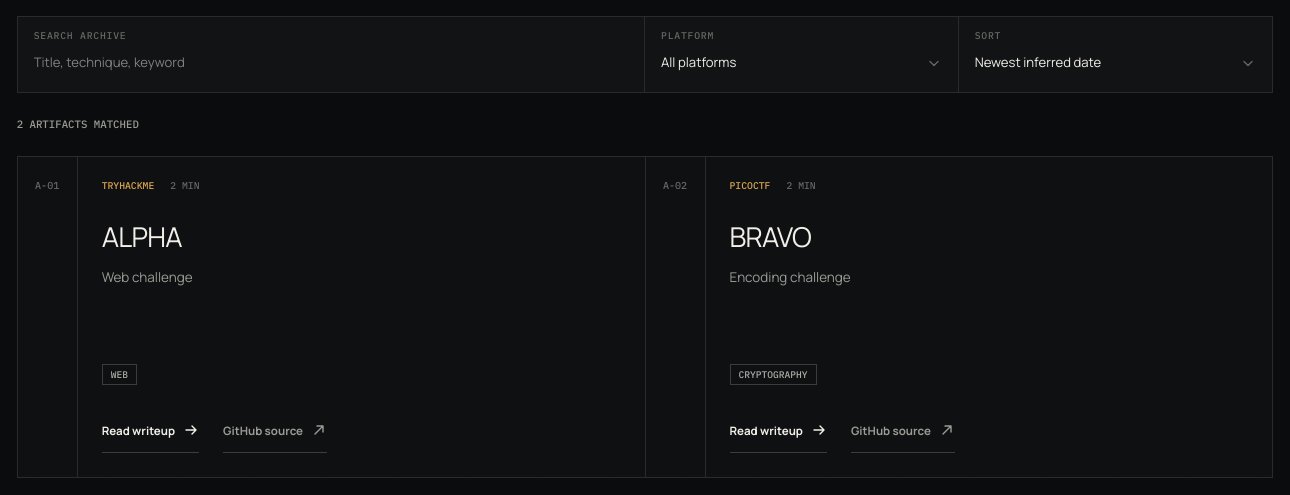
Test: WriteupExplorer › filters by search and reports result counts
This screenshot has width=1290, height=495.
Expected: the message reads "2 artifacts matched", [17,120,139,130]
Type "encoding" into the search field labelled "Search archive" at coordinates (331, 63), box [34,47,628,79]
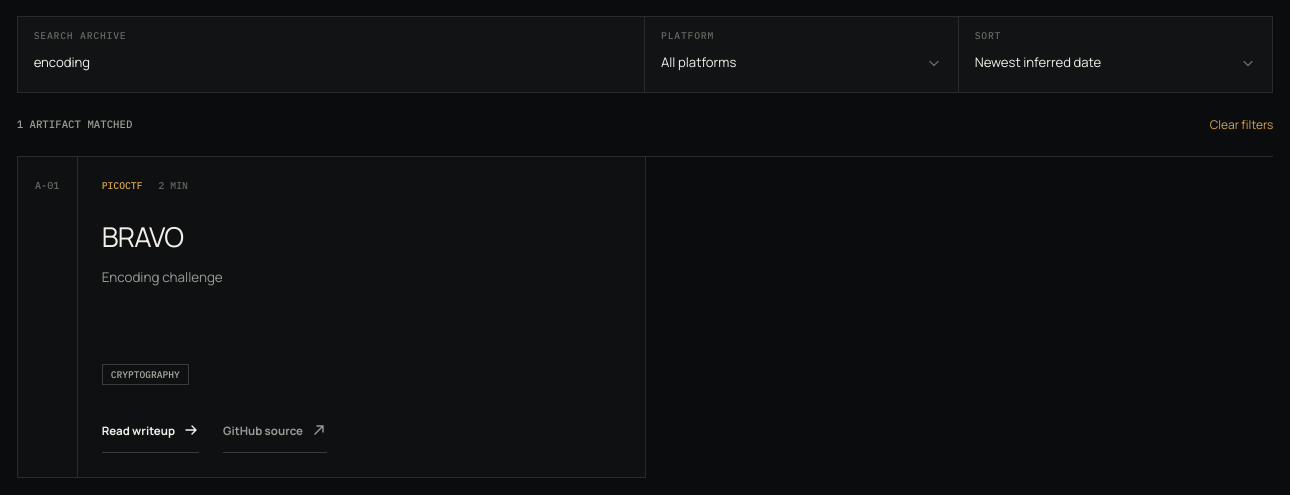
Expected: the heading "Bravo" is shown, [102,218,183,255]
Now the message reads "1 artifact matched", box [17,120,132,130]
Now the link "Alpha" is gone
